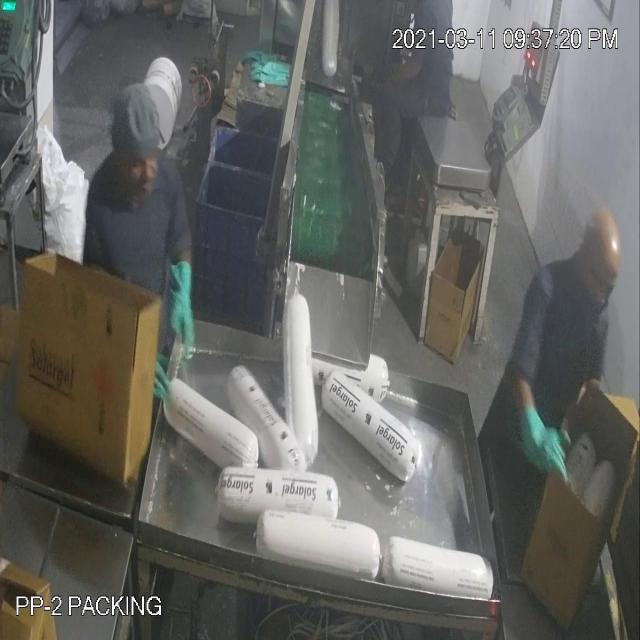Gloves: (51, 110, 542, 436)
